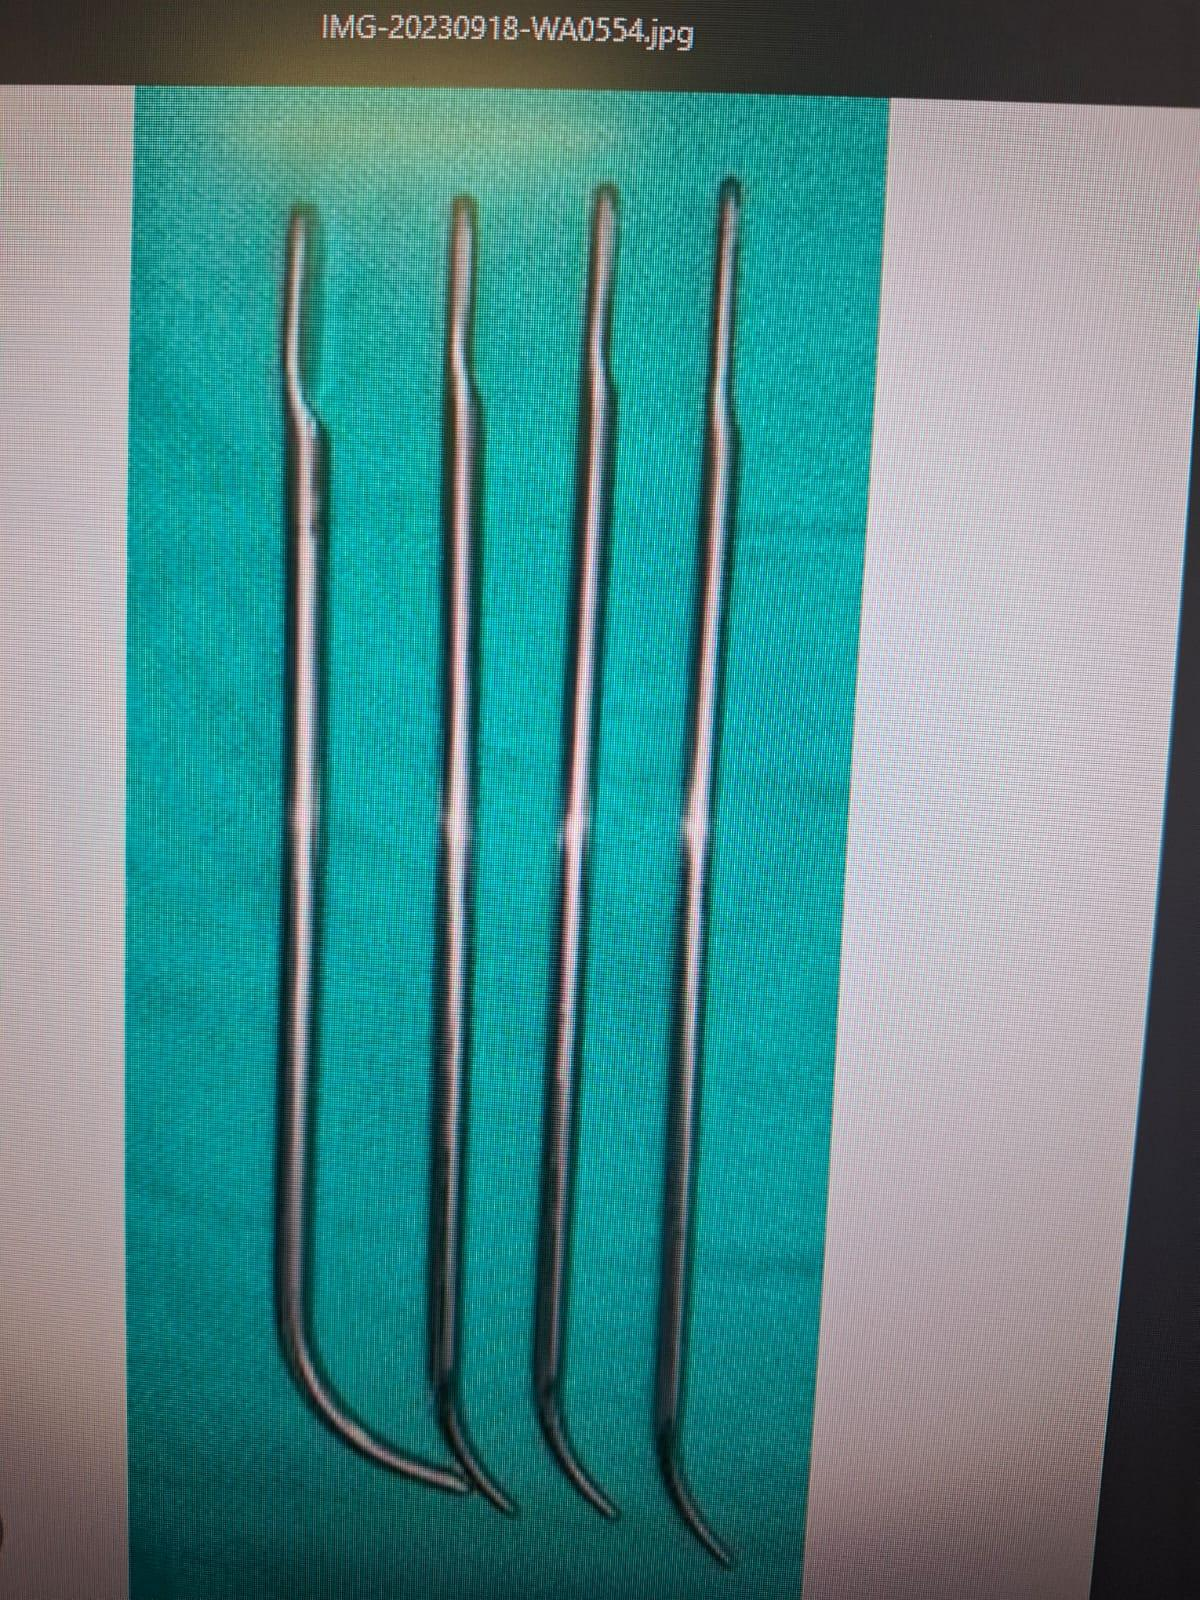Urethral Dilators: (211, 152, 485, 1522), (623, 188, 813, 1577)
